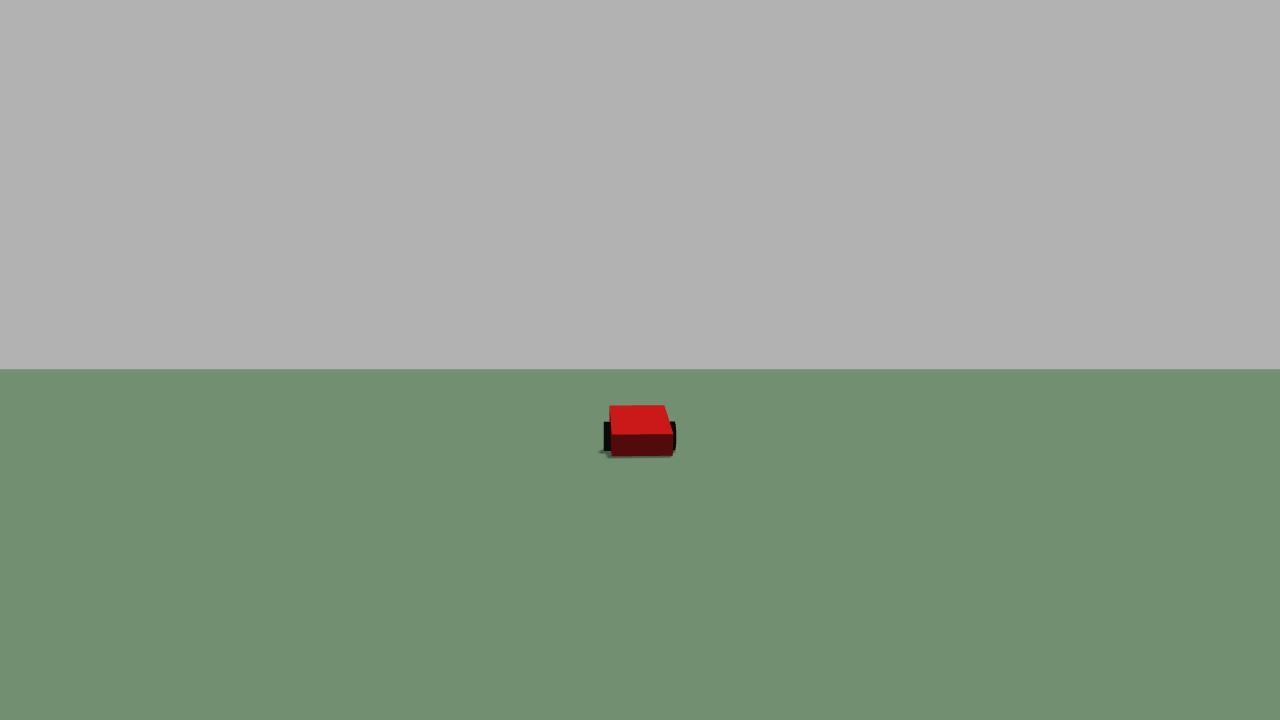ground_vehicle: (595, 398, 688, 472)
